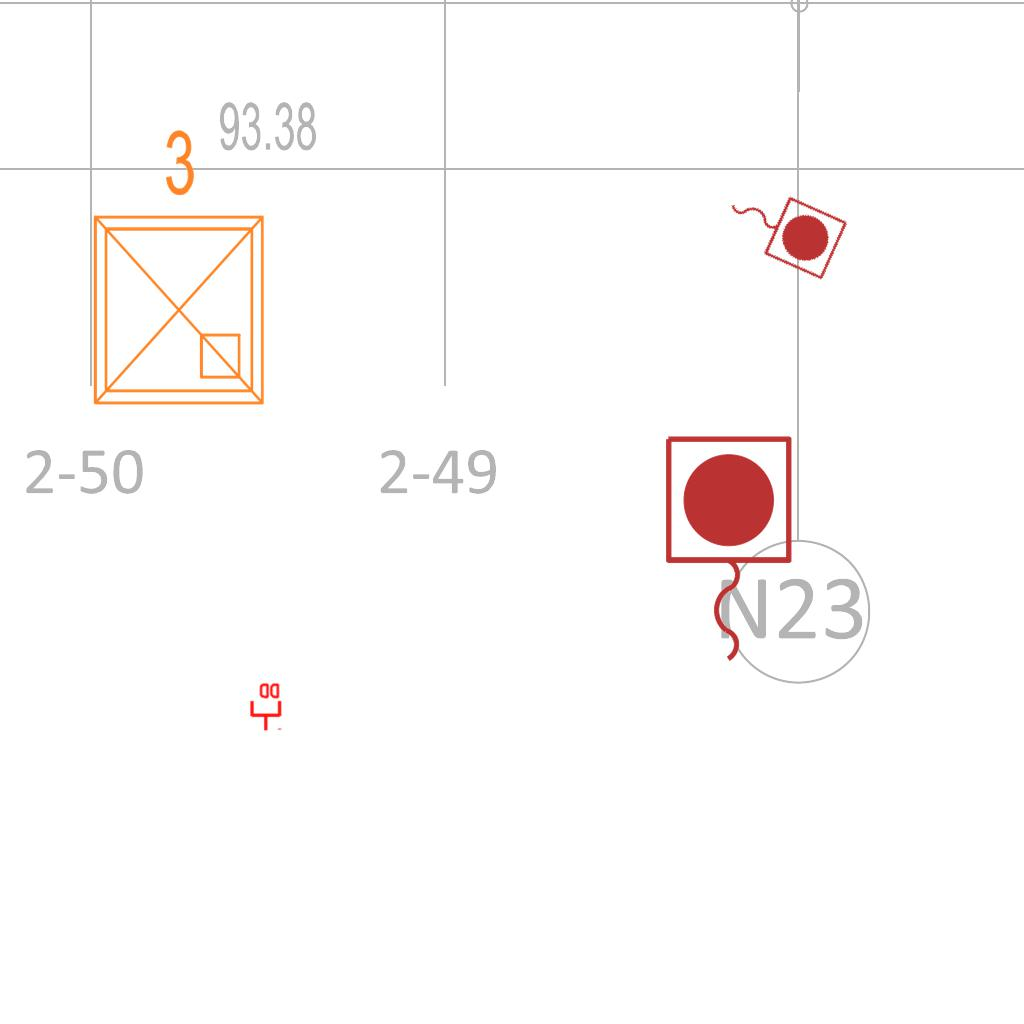Datenanschluss_zweifach: (248, 681, 282, 732)
Einbaudownlights_LED_Konferenzraeume: (71, 119, 279, 419)
Zugtaster: (655, 428, 799, 672), (712, 169, 854, 285)
